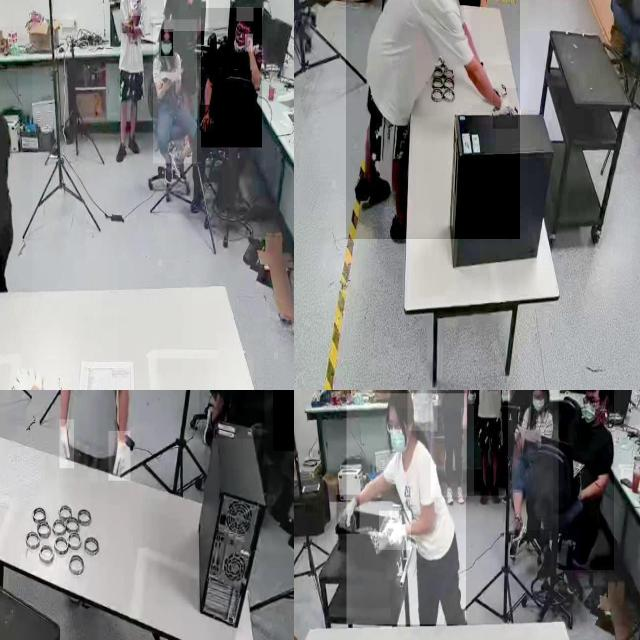face_mask: (109, 431, 131, 481), (579, 390, 602, 429), (386, 419, 408, 457), (60, 419, 74, 469), (161, 29, 173, 57), (533, 392, 545, 416)
face_nomask: (235, 24, 250, 50)
hand_glove: (379, 510, 411, 550), (493, 88, 519, 130), (336, 494, 360, 534)
hand_noglove: (200, 105, 212, 131), (120, 20, 134, 34), (130, 2, 142, 16), (461, 408, 468, 430), (245, 34, 253, 52), (472, 390, 480, 406)
head_nohelmet: (386, 390, 413, 408), (236, 7, 254, 22), (161, 17, 175, 32)
person: (345, 0, 520, 239), (346, 394, 466, 626), (558, 390, 614, 571), (0, 25, 32, 299), (201, 8, 263, 148), (56, 390, 139, 482), (153, 19, 197, 164), (510, 390, 553, 531), (116, 0, 149, 156), (430, 390, 474, 498), (467, 390, 508, 496), (199, 390, 264, 440), (164, 0, 209, 32), (407, 390, 437, 431)
shoes: (352, 170, 392, 212), (171, 148, 189, 184), (162, 149, 174, 187), (488, 480, 504, 507), (114, 138, 128, 166), (477, 481, 489, 508), (128, 134, 140, 159), (442, 485, 456, 506), (456, 481, 466, 506)
